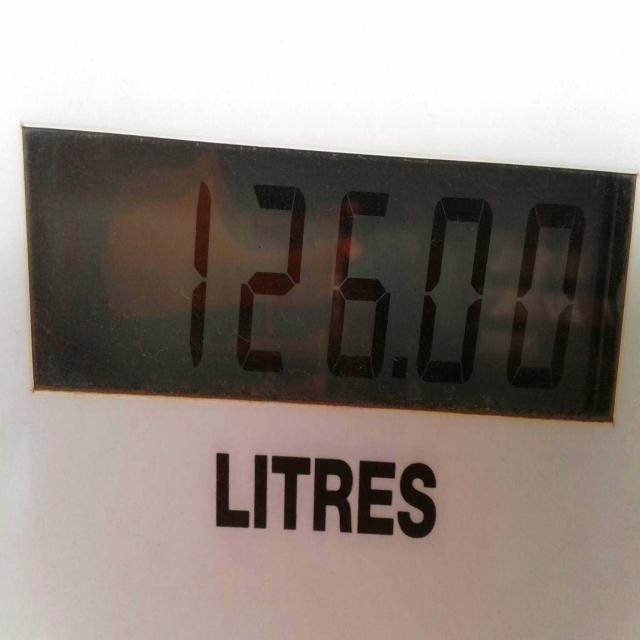.: (393, 353, 411, 387)
0: (506, 200, 582, 389), (419, 195, 487, 391)
1: (188, 177, 214, 370)
2: (243, 177, 303, 381)
6: (326, 186, 391, 382)
